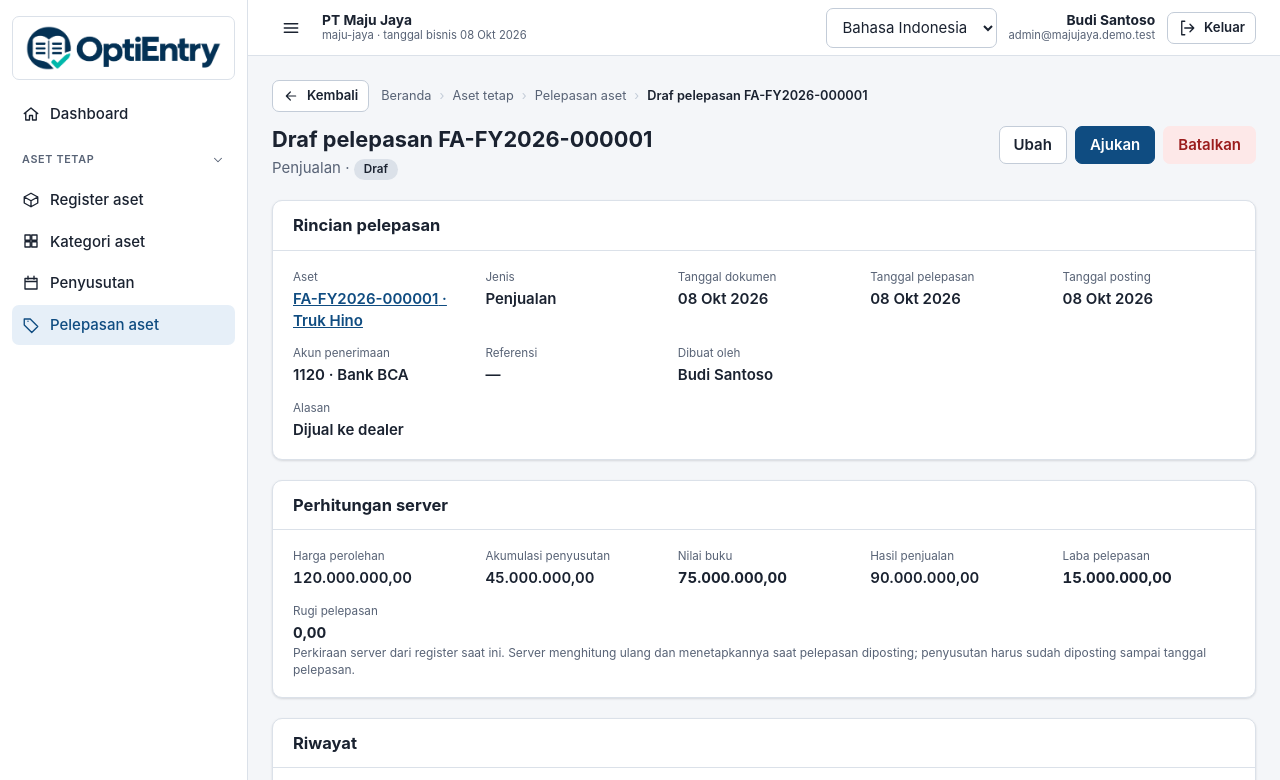
Test case: asset disposal detail › submits and explains where to post the pending depreciation when the API refuses
Click the button "Ajukan": (1115,145) [1075,126,1155,164]
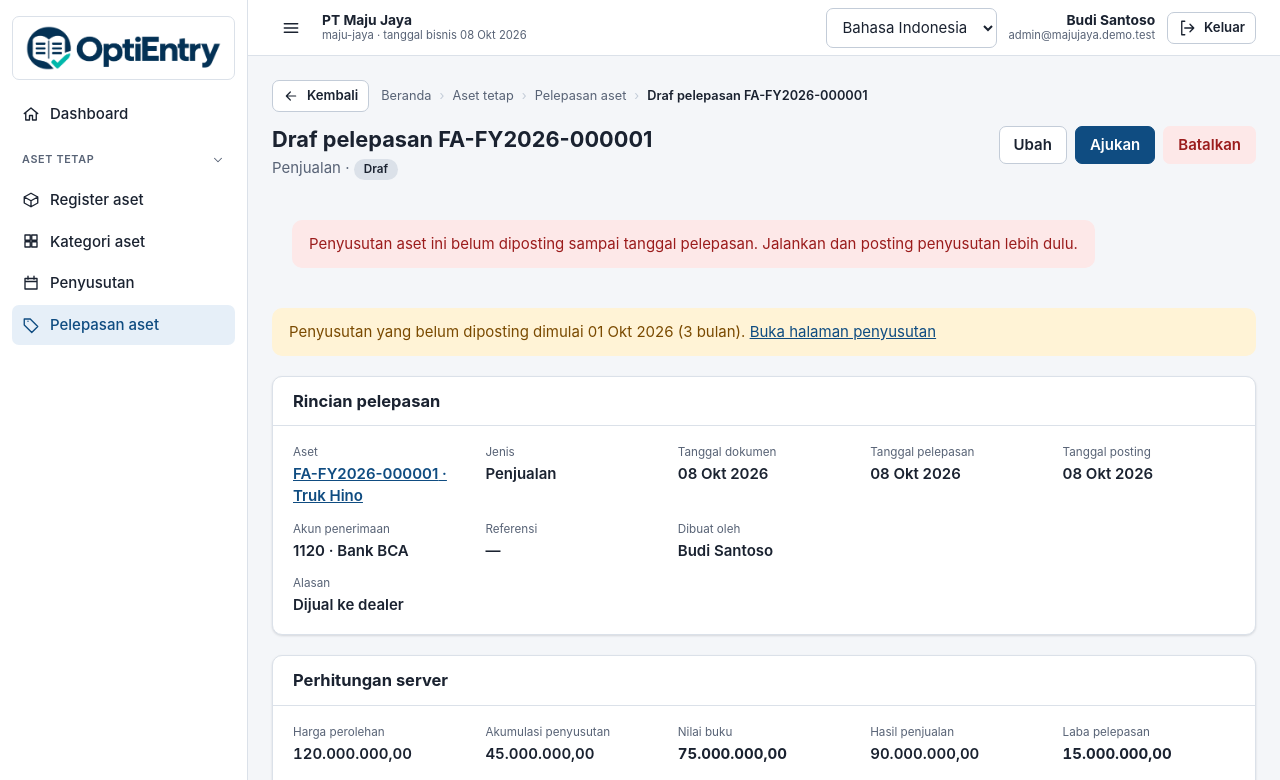
Expected: the text "Penyusutan aset ini belum diposting sampai tanggal pelepasan. Jalankan dan posting penyusutan lebih dulu." is shown, [309,234,1078,253]
